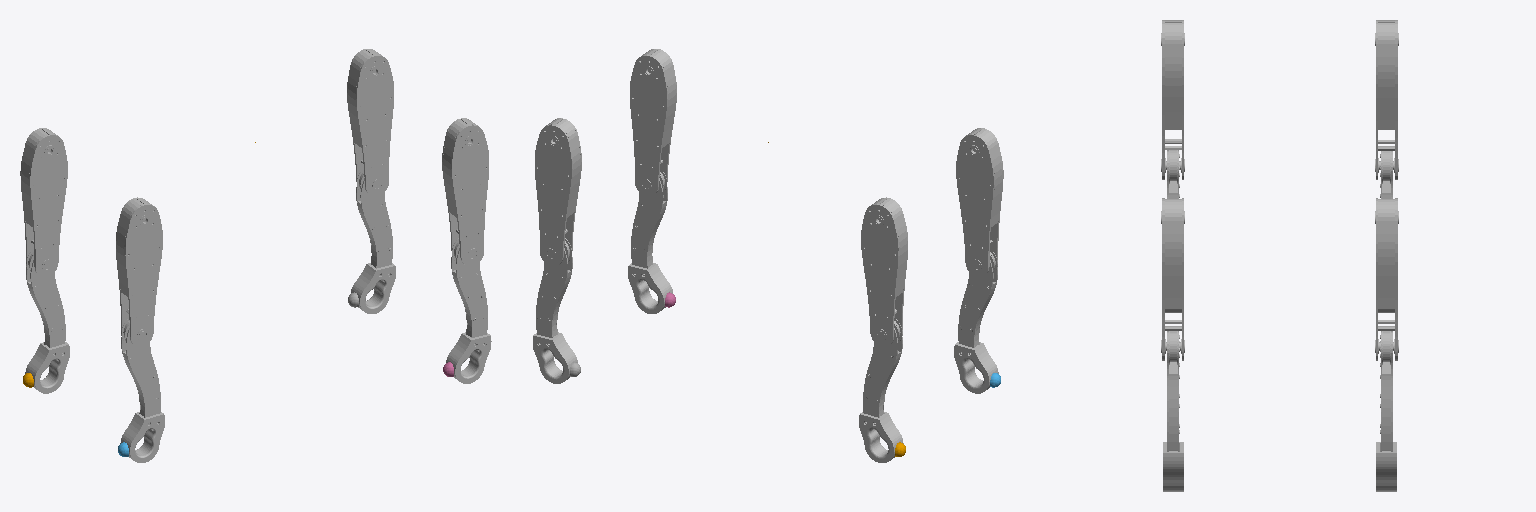
URDF robot description (svan_urdf_package):
<?xml version="1.0" encoding="utf-8"?>
<!-- This URDF was automatically created by SolidWorks to URDF Exporter! Originally created by [author] ([email redacted]) 
     Commit Version: 1.6.0-4-g7f85cfe  Build Version: 1.6.7995.38578
     For more information, please see http://wiki.ros.org/sw_urdf_exporter -->
<robot
  name="svan_urdf_package">
  <link name="base">
    <visual>
      <origin rpy="0 0 0" xyz="0 0 0"/>
      <geometry>
        <box size="0.001 0.001 0.001"/>
      </geometry>
    </visual>
  </link>
  <joint name="floating_base" type="fixed">
    <origin rpy="0 0 0" xyz="0 0 0"/>
    <parent link="base"/>
    <child link="base_link"/>
  </joint>
  <link name="base_link">
    <inertial>
      <origin
        xyz="-0.000736126189085237 -1.72251877519347E-05 9.8768329506848E-05"
        rpy="0 0 0" />
      <mass
        value="4.713" />
      <inertia ixx="0.01683993" ixy="8.3902e-05" ixz="0.000597679" iyy="0.056579028" iyz="2.5134e-05" izz="0.064713601"/>
    </inertial>
    <visual>
      <origin
        xyz="0 0 0"
        rpy="0 0 0" />
      <geometry>
        <mesh
          filename="../meshes/torso_link.STL" />
      </geometry>
      <material
        name="">
        <color
          rgba="0.752941176470588 0.752941176470588 0.752941176470588 1" />
      </material>
    </visual>
    <collision>
      <origin
        xyz="0 0 0"
        rpy="0 0 0" />
      <geometry>
        <mesh
          filename="../meshes/torso_link.STL" />
      </geometry>
    </collision>
  </link>
  <link name="fr_abd_l">
    <inertial>
      <origin
        xyz="0.0431354666865266 -0.0619037967425595 -1.28783333823018E-05"
        rpy="0 0 0" />
      <mass value="0.696"/>
      <inertia ixx="0.000469246" ixy="9.409e-06" ixz="-3.42e-07" iyy="0.00080749" iyz="4.66e-07" izz="0.000552929"/>
    </inertial>
    <visual>
      <origin
        xyz="0 0 0"
        rpy="0 0 0" />
      <geometry>
        <mesh
          filename="../meshes/fr_abd_l.STL" />
      </geometry>
      <material
        name="">
        <color
          rgba="0.752941176470588 0.752941176470588 0.752941176470588 1" />
      </material>
    </visual>
    <collision>
      <origin
        xyz="0 0 0"
        rpy="0 0 0" />
      <geometry>
        <mesh
          filename="../meshes/fr_abd_l.STL" />
      </geometry>
    </collision>
  </link>
  <joint name="fr_abd_j" type="revolute">
    <origin
      xyz="0.20368 -0.06 0"
      rpy="0 0 0" />
    <parent
      link="base_link" />
    <child
      link="fr_abd_l" />
    <axis
      xyz="1 0 0" />
    <limit
      lower="-3"
      upper="3"
      effort="100"
      velocity="100" />
  </joint>
  <link name="fr_hip_l">
    <inertial>
      <origin
        xyz="0.00165916788705489 0.00999999412640479 -0.0713157899491978"
        rpy="0 0 0" />
      <mass value="1.013"/>
      <inertia ixx="0.005529065" ixy="-4.825e-06" ixz="0.000343869" iyy="0.005139339" iyz="-2.2448e-05" izz="0.001367788"/>
    </inertial>
    <visual>
      <origin
        xyz="0 0 0"
        rpy="0 0 0" />
      <geometry>
        <mesh
          filename="../meshes/fr_hip_l.STL" />
      </geometry>
      <material
        name="">
        <color
          rgba="0.752941176470588 0.752941176470588 0.752941176470588 1" />
      </material>
    </visual>
    <collision>
      <origin
        xyz="0 0 0"
        rpy="0 0 0" />
      <geometry>
        <mesh
          filename="../meshes/fr_hip_l.STL" />
      </geometry>
    </collision>
  </link>
  <joint name="fr_hip_j" type="revolute">
    <origin
      xyz="0.043 -0.07525 0"
      rpy="0 0 0" />
    <parent
      link="fr_abd_l" />
    <child
      link="fr_hip_l" />
    <axis
      xyz="0 1 0" />
    <limit
      lower="-3"
      upper="3"
      effort="100"
      velocity="100" />
  </joint>
  <link name="fr_knee_l">
    <inertial>
      <origin
        xyz="0.00288556341815482 1.5445513158463E-06 -0.0756253134355262"
        rpy="0 0 0" />
      <mass value="0.166"/>
      <inertia ixx="0.002997972" ixy="0.0" ixz="-0.000141163" iyy="0.003014022" iyz="0.0" izz="3.2426e-05"/>
    </inertial>
    <visual>
      <origin
        xyz="0 0 0"
        rpy="0 0 0" />
      <geometry>
        <mesh
          filename="../meshes/fr_knee_l.STL" />
      </geometry>
      <material
        name="">
        <color
          rgba="0.752941176470588 0.752941176470588 0.752941176470588 1" />
      </material>
    </visual>
    <collision>
      <origin
        xyz="0 0 0"
        rpy="0 0 0" />
      <geometry>
        <mesh
          filename="../meshes/fr_knee_l.STL" />
      </geometry>
    </collision>
  </link>
  <joint name="fr_knee_j" type="revolute">
    <origin
      xyz="0.0041389 0.01 -0.16494"
      rpy="0 0 0" />
    <parent
      link="fr_hip_l" />
    <child
      link="fr_knee_l" />
    <axis
      xyz="0 1 0" />
    <limit
      lower="-3"
      upper="3"
      effort="100"
      velocity="100" />
  </joint>
  <joint name="fr_dummy_j" type="fixed" >
    <origin
      xyz="-0.026457 0 -0.16693"
      rpy="0 0 0" />
    <parent
      link="fr_knee_l" />
    <child
      link="foot_FR" />
  </joint>
  <link name="fl_abd_l">
    <inertial>
      <origin
        xyz="0.0431354666865253 0.0619037967425567 1.28783333771046E-05"
        rpy="0 0 0" />
      <mass value="0.696"/>
      <inertia ixx="0.000469246" ixy="-9.409e-06" ixz="-3.42e-07" iyy="0.00080749" iyz="-4.66e-07" izz="0.000552929"/>
    </inertial>
    <visual>
      <origin
        xyz="0 0 0"
        rpy="0 0 0" />
      <geometry>
        <mesh
          filename="../meshes/fl_abd_l.STL" />
      </geometry>
      <material
        name="">
        <color
          rgba="0.752941176470588 0.752941176470588 0.752941176470588 1" />
      </material>
    </visual>
    <collision>
      <origin
        xyz="0 0 0"
        rpy="0 0 0" />
      <geometry>
        <mesh
          filename="../meshes/fl_abd_l.STL" />
      </geometry>
    </collision>
  </link>
  <joint name="fl_abd_j" type="revolute">
    <origin
      xyz="0.20368 0.06 0"
      rpy="0 0 0" />
    <parent
      link="base_link" />
    <child
      link="fl_abd_l" />
    <axis
      xyz="1 0 0" />
    <limit
      lower="-3"
      upper="3"
      effort="100"
      velocity="100" />
  </joint>
  <link name="fl_hip_l">
    <inertial>
      <origin
        xyz="0.0016591678870552 -0.0100000058735955 -0.0713157899491955"
        rpy="0 0 0" />
     <mass value="1.013"/>
      <inertia ixx="0.005529065" ixy="4.825e-06" ixz="0.000343869" iyy="0.005139339" iyz="2.2448e-05" izz="0.001367788"/>
    </inertial>
    <visual>
      <origin
        xyz="0 0 0"
        rpy="0 0 0" />
      <geometry>
        <mesh
          filename="../meshes/fl_hip_l.STL" />
      </geometry>
      <material
        name="">
        <color
          rgba="0.752941176470588 0.752941176470588 0.752941176470588 1" />
      </material>
    </visual>
    <collision>
      <origin
        xyz="0 0 0"
        rpy="0 0 0" />
      <geometry>
        <mesh
          filename="../meshes/fl_hip_l.STL" />
      </geometry>
    </collision>
  </link>
  <joint name="fl_hip_j" type="revolute">
    <origin
      xyz="0.043 0.07525 0"
      rpy="0 0 0" />
    <parent
      link="fl_abd_l" />
    <child
      link="fl_hip_l" />
    <axis
      xyz="0 1 0" />
    <limit
      lower="-3"
      upper="3"
      effort="100"
      velocity="100" />
  </joint>
  <link name="fl_knee_a">
    <inertial>
      <origin
        xyz="0.00288556341815421 1.54455131551323E-06 -0.0756253134355257"
        rpy="0 0 0" />
      <mass value="0.166"/>
      <inertia ixx="0.002997972" ixy="0.0" ixz="-0.000141163" iyy="0.003014022" iyz="0.0" izz="3.2426e-05"/>
    </inertial>
    <visual>
      <origin
        xyz="0 0 0"
        rpy="0 0 0" />
      <geometry>
        <mesh
          filename="../meshes/fl_knee_a.STL" />
      </geometry>
      <material
        name="">
        <color
          rgba="0.752941176470588 0.752941176470588 0.752941176470588 1" />
      </material>
    </visual>
    <collision>
      <origin
        xyz="0 0 0"
        rpy="0 0 0" />
      <geometry>
        <mesh
          filename="../meshes/fl_knee_a.STL" />
      </geometry>
    </collision>
  </link>
  <joint name="fl_knee_j" type="revolute">
    <origin
      xyz="0.0041389 -0.01 -0.16494"
      rpy="0 0 0" />
    <parent
      link="fl_hip_l" />
    <child
      link="fl_knee_a" />
    <axis
      xyz="0 1 0" />
    <limit
      lower="-3"
      upper="3"
      effort="100"
      velocity="100" />
  </joint>
  <joint name="fl_dummy_j" type="fixed" >
    <origin
      xyz="-0.026618 0 -0.16693"
      rpy="0 0 0" />
    <parent
      link="fl_knee_a" />
    <child
      link="foot_FL" />
  </joint>
  <link name="rr_abd_l">
    <inertial>
      <origin
        xyz="-0.0408339071979818 -0.0619037967425603 0.000179250427446827"
        rpy="0 0 0" />
      <mass value="0.696"/>
      <inertia ixx="0.000469246" ixy="-9.409e-06" ixz="3.42e-07" iyy="0.00080749" iyz="4.66e-07" izz="0.000552929"/>
    </inertial>
    <visual>
      <origin
        xyz="0 0 0"
        rpy="0 0 0" />
      <geometry>
        <mesh
          filename="../meshes/rr_abd_l.STL" />
      </geometry>
      <material
        name="">
        <color
          rgba="0.752941176470588 0.752941176470588 0.752941176470588 1" />
      </material>
    </visual>
    <collision>
      <origin
        xyz="0 0 0"
        rpy="0 0 0" />
      <geometry>
        <mesh
          filename="../meshes/rr_abd_l.STL" />
      </geometry>
    </collision>
  </link>
  <joint name="rr_abd_j" type="revolute">
    <origin
      xyz="-0.20482 -0.06 0"
      rpy="0 0 0" />
    <parent
      link="base_link" />
    <child
      link="rr_abd_l" />
    <axis
      xyz="1 0 0" />
    <limit
      lower="-3"
      upper="3"
      effort="100"
      velocity="100" />
  </joint>
  <link name="rr_hip_l">
    <inertial>
      <origin
        xyz="-0.00165916788705478 0.0100000058735978 -0.0713157899491982"
        rpy="0 0 0" />
      <mass value="1.013"/>
      <inertia ixx="0.005529065" ixy="-4.825e-06" ixz="0.000343869" iyy="0.005139339" iyz="-2.2448e-05" izz="0.001367788"/>
    </inertial>
    <visual>
      <origin
        xyz="0 0 0"
        rpy="0 0 0" />
      <geometry>
        <mesh
          filename="../meshes/rr_hip_l.STL" />
      </geometry>
      <material
        name="">
        <color
          rgba="0.752941176470588 0.752941176470588 0.752941176470588 1" />
      </material>
    </visual>
    <collision>
      <origin
        xyz="0 0 0"
        rpy="0 0 0" />
      <geometry>
        <mesh
          filename="../meshes/rr_hip_l.STL" />
      </geometry>
    </collision>
  </link>
  <joint name="rr_hip_j" type="revolute">
    <origin
      xyz="-0.043 -0.07525 0"
      rpy="0 0 0" />
    <parent
      link="rr_abd_l" />
    <child
      link="rr_hip_l" />
    <axis
      xyz="0 1 0" />
    <limit
      lower="-3"
      upper="3"
      effort="100"
      velocity="100" />
  </joint>
  <link name="rr_knee_l">
    <inertial>
      <origin
        xyz="0.00654595759568111 1.5446183047052E-06 -0.0753966327483542"
        rpy="0 0 0" />
      <mass value="0.166"/>
      <inertia ixx="0.002997972" ixy="0.0" ixz="-0.000141163" iyy="0.003014022" iyz="0.0" izz="3.2426e-05"/>
    </inertial>
    <visual>
      <origin
        xyz="0 0 0"
        rpy="0 0 0" />
      <geometry>
        <mesh
          filename="../meshes/rr_knee_l.STL" />
      </geometry>
      <material
        name="">
        <color
          rgba="0.752941176470588 0.752941176470588 0.752941176470588 1" />
      </material>
    </visual>
    <collision>
      <origin
        xyz="0 0 0"
        rpy="0 0 0" />
      <geometry>
        <mesh
          filename="../meshes/rr_knee_l.STL" />
      </geometry>
    </collision>
  </link>
  <joint name="rr_knee_j" type="revolute">
    <origin
      xyz="-0.0038618 0.01 -0.16493"
      rpy="0 0 0" />
    <parent
      link="rr_hip_l" />
    <child
      link="rr_knee_l" />
    <axis
      xyz="0 1 0" />
    <limit
      lower="-3"
      upper="3"
      effort="100"
      velocity="100" />
  </joint>
  <!-- <link
    name="rr_dummy_l">
    <inertial>
      <origin
        xyz="0.00149798440726828 3.10862446895044E-15 7.7734905568394E-05"
        rpy="0 0 0" />
      <mass
        value="9.42477796076944E-06" />
      <inertia
        ixx="4.72504481421764E-12"
        ixy="-1.40725882958467E-27"
        ixz="-2.43883254369301E-13"
        iyy="9.42477796076952E-12"
        iyz="-7.74661408927972E-29"
        izz="9.41212212693661E-12" />
    </inertial>
    <visual>
      <origin
        xyz="0 0 0"
        rpy="0 0 0" />
      <geometry>
        <mesh
          filename="../meshes/rr_dummy_l.STL" />
      </geometry>
      <material
        name="">
        <color
          rgba="0.792156862745098 0.819607843137255 0.933333333333333 1" />
      </material>
    </visual>
    <collision>
      <origin
        xyz="0 0 0"
        rpy="0 0 0" />
      <geometry>
        <mesh
          filename="../meshes/rr_dummy_l.STL" />
      </geometry>
    </collision>
  </link> -->
  <joint name="rr_dummy_j" type="fixed" >
    <origin
      xyz="-0.018339 0 -0.16802"
      rpy="0 0 0" />
    <parent
      link="rr_knee_l" />
    <child
      link="foot_RR" />
  </joint>
  <link name="rl_abd_l">
    <inertial>
      <origin
        xyz="-0.0408339071979842 0.0619037967425569 -0.000179250427450348"
        rpy="0 0 0" />
      <mass value="0.696"/>
      <inertia ixx="0.000469246" ixy="9.409e-06" ixz="3.42e-07" iyy="0.00080749" iyz="-4.66e-07" izz="0.000552929"/>
    </inertial>
    <visual>
      <origin
        xyz="0 0 0"
        rpy="0 0 0" />
      <geometry>
        <mesh
          filename="../meshes/rl_abd_l.STL" />
      </geometry>
      <material
        name="">
        <color
          rgba="0.752941176470588 0.752941176470588 0.752941176470588 1" />
      </material>
    </visual>
    <collision>
      <origin
        xyz="0 0 0"
        rpy="0 0 0" />
      <geometry>
        <mesh
          filename="../meshes/rl_abd_l.STL" />
      </geometry>
    </collision>
  </link>
  <joint name="rl_abd_j" type="revolute">
    <origin
      xyz="-0.20482 0.06 0"
      rpy="0 0 0" />
    <parent
      link="base_link" />
    <child
      link="rl_abd_l" />
    <axis
      xyz="1 0 0" />
    <limit
      lower="-3"
      upper="3"
      effort="100"
      velocity="100" />
  </joint>
  <link name="rl_hip_l">
    <inertial>
      <origin
        xyz="-0.00179950691259256 -0.0100000058735954 -0.0713123896470731"
        rpy="0 0 0" />
      <mass value="1.013"/>
      <inertia ixx="0.005529065" ixy="4.825e-06" ixz="0.000343869" iyy="0.005139339" iyz="2.2448e-05" izz="0.001367788"/>
    </inertial>
    <visual>
      <origin
        xyz="0 0 0"
        rpy="0 0 0" />
      <geometry>
        <mesh
          filename="../meshes/rl_hip_l.STL" />
      </geometry>
      <material
        name="">
        <color
          rgba="0.752941176470588 0.752941176470588 0.752941176470588 1" />
      </material>
    </visual>
    <collision>
      <origin
        xyz="0 0 0"
        rpy="0 0 0" />
      <geometry>
        <mesh
          filename="../meshes/rl_hip_l.STL" />
      </geometry>
    </collision>
  </link>
  <joint name="rl_hip_j" type="revolute">
    <origin
      xyz="-0.043 0.07525 0"
      rpy="0 0 0" />
    <parent
      link="rl_abd_l" />
    <child
      link="rl_hip_l" />
    <axis
      xyz="0 1 0" />
    <limit
      lower="-3"
      upper="3"
      effort="100"
      velocity="100" />
  </joint>
  <link name="rl_knee_l">
    <inertial>
      <origin
        xyz="0.00654594639576345 1.54461741741496E-06 -0.0753966803284335"
        rpy="0 0 0" />
      <mass value="0.166"/>
      <inertia ixx="0.002997972" ixy="0.0" ixz="-0.000141163" iyy="0.003014022" iyz="0.0" izz="3.2426e-05"/>
    </inertial>
    <visual>
      <origin
        xyz="0 0 0"
        rpy="0 0 0" />
      <geometry>
        <mesh
          filename="../meshes/rl_knee_l.STL" />
      </geometry>
      <material
        name="">
        <color
          rgba="0.752941176470588 0.752941176470588 0.752941176470588 1" />
      </material>
    </visual>
    <collision>
      <origin
        xyz="0 0 0"
        rpy="0 0 0" />
      <geometry>
        <mesh
          filename="../meshes/rl_knee_l.STL" />
      </geometry>
    </collision>
  </link>
  <joint name="rl_knee_j" type="revolute">
    <origin
      xyz="-0.0038618 -0.01 -0.16493"
      rpy="0 0 0" />
    <parent
      link="rl_hip_l" />
    <child
      link="rl_knee_l" />
    <axis
      xyz="0 1 0" />
    <limit
      lower="-3"
      upper="3"
      effort="100"
      velocity="100" />
  </joint>
  <!-- <link
    name="rl_dummy_l">
    <inertial>
      <origin
        xyz="0.0014979844072685 1.99840144432528E-15 7.77349055681165E-05"
        rpy="0 0 0" />
      <mass
        value="9.42477796076945E-06" />
      <inertia
        ixx="4.72504481421764E-12"
        ixy="-2.75052131823419E-27"
        ixz="-2.43883254369304E-13"
        iyy="9.42477796076952E-12"
        iyz="2.68212707776922E-29"
        izz="9.41212212693661E-12" />
    </inertial>
    <visual>
      <origin
        xyz="0 0 0"
        rpy="0 0 0" />
      <geometry>
        <mesh
          filename="../meshes/rl_dummy_l.STL" />
      </geometry>
      <material
        name="">
        <color
          rgba="0.792156862745098 0.819607843137255 0.933333333333333 1" />
      </material>
    </visual>
    <collision>
      <origin
        xyz="0 0 0"
        rpy="0 0 0" />
      <geometry>
        <mesh
          filename="../meshes/rl_dummy_l.STL" />
      </geometry>
    </collision>
  </link> -->
  <link name="foot_FR">
    <inertial>
        <origin xyz="0.0014979844072685 1.99840144432528E-15 7.77349055681165E-05"
        rpy="0 0 0" /> 
        <mass value="0.025" />
        <inertia ixx="2e-6" ixy="0" ixz="0" iyy="2e-6" iyz="0" izz="2e-6" />
      </inertial>
      <visual>
        <origin xyz="0 0 0" rpy="0 0 0" />
        <geometry>
          <sphere radius="0.01" />
        </geometry>
      </visual>
      <collision>
        <origin xyz="0 0 0" rpy="0 0 0" />
        <geometry>
          <sphere radius="0.01" />
        </geometry>
      </collision>
  </link>
  <link name="foot_FL">
    <inertial>
        <origin xyz="0.0014979844072685 1.99840144432528E-15 7.77349055681165E-05"
        rpy="0 0 0" /> 
        <mass value="0.025" />
        <inertia ixx="2e-6" ixy="0" ixz="0" iyy="2e-6" iyz="0" izz="2e-6" />
      </inertial>
      <visual>
        <origin xyz="0 0 0" rpy="0 0 0" />
        <geometry>
          <sphere radius="0.01" />
        </geometry>
      </visual>
      <collision>
        <origin xyz="0 0 0" rpy="0 0 0" />
        <geometry>
          <sphere radius="0.01" />
        </geometry>
      </collision>
  </link>
  <link name="foot_RL">
    <inertial>
        <origin xyz="0.0014979844072685 1.99840144432528E-15 7.77349055681165E-05"
        rpy="0 0 0" /> 
        <mass value="0.025" />
        <inertia ixx="2e-6" ixy="0" ixz="0" iyy="2e-6" iyz="0" izz="2e-6" />
      </inertial>
      <visual>
        <origin xyz="0 0 0" rpy="0 0 0" />
        <geometry>
          <sphere radius="0.01" />
        </geometry>
      </visual>
      <collision>
        <origin xyz="0 0 0" rpy="0 0 0" />
        <geometry>
          <sphere radius="0.01" />
        </geometry>
      </collision>
  </link>
  <link name="foot_RR">
    <inertial>
        <origin xyz="0.0014979844072685 1.99840144432528E-15 7.77349055681165E-05"
        rpy="0 0 0" /> 
        <mass value="0.025" />
        <inertia ixx="2e-6" ixy="0" ixz="0" iyy="2e-6" iyz="0" izz="2e-6" />
      </inertial>
      <visual>
        <origin xyz="0 0 0" rpy="0 0 0" />
        <geometry>
          <sphere radius="0.01" />
        </geometry>
      </visual>
      <collision>
        <origin xyz="0 0 0" rpy="0 0 0" />
        <geometry>
          <sphere radius="0.01" />
        </geometry>
      </collision>
  </link>
  <joint name="rl_dummy_j" type="fixed" >
    <origin
      xyz="-0.0185 0 -0.16802"
      rpy="0 0 0" />
    <parent
      link="rl_knee_l" />
    <child
      link="foot_RL" />
  </joint>
</robot>

--- What the picture shows (computed from the rendered views, not written in the file) ---
Views: 3 orthographic renders of the robot side by side, from view 1: azimuth 30°, elevation 25°; view 2: azimuth 150°, elevation 25°; view 3: azimuth 270°, elevation 25°.
Robot: svan_urdf_package — 18 links, 17 joints (12 revolute, 5 fixed); root link base; default pose: all joints at 0.
Links seen in each view (by area): view 1: rl_hip_l, rr_hip_l, fl_hip_l, fr_hip_l, fl_knee_a, fr_knee_l, rr_knee_l, rl_knee_l; view 2: rr_hip_l, rl_hip_l, fr_hip_l, fl_hip_l, fr_knee_l, fl_knee_a, rl_knee_l, rr_knee_l; view 3: fr_hip_l, fl_hip_l, rr_hip_l, rl_hip_l, fr_knee_l, fl_knee_a, rr_knee_l, rl_knee_l.
Boxes of the visible links, x1=… form: rl_hip_l: x1=20, y1=128, x2=67, y2=276; rr_hip_l: x1=116, y1=197, x2=162, y2=346; fl_hip_l: x1=347, y1=49, x2=393, y2=196; fr_hip_l: x1=442, y1=118, x2=488, y2=265; fl_knee_a: x1=351, y1=169, x2=395, y2=313; fr_knee_l: x1=446, y1=238, x2=491, y2=383; rr_knee_l: x1=120, y1=319, x2=164, y2=462; rl_knee_l: x1=25, y1=249, x2=69, y2=393; rr_hip_l: x1=956, y1=128, x2=1003, y2=276; rl_hip_l: x1=861, y1=197, x2=907, y2=346; fr_hip_l: x1=630, y1=49, x2=676, y2=196; fl_hip_l: x1=535, y1=118, x2=581, y2=265; fr_knee_l: x1=628, y1=169, x2=672, y2=313; fl_knee_a: x1=533, y1=238, x2=577, y2=383; rl_knee_l: x1=859, y1=318, x2=903, y2=462; rr_knee_l: x1=954, y1=249, x2=998, y2=393; fr_hip_l: x1=1161, y1=198, x2=1184, y2=360; fl_hip_l: x1=1375, y1=198, x2=1398, y2=360; rr_hip_l: x1=1161, y1=20, x2=1184, y2=179; rl_hip_l: x1=1375, y1=20, x2=1398, y2=179; fr_knee_l: x1=1163, y1=331, x2=1183, y2=491; fl_knee_a: x1=1376, y1=331, x2=1396, y2=491; rr_knee_l: x1=1165, y1=150, x2=1181, y2=312; rl_knee_l: x1=1378, y1=151, x2=1394, y2=312.
Bounding box of the posed robot: 0.5597 × 0.2785 × 0.375 m (x, y, z).
8 mesh visuals loaded from 13 distinct referenced files (8 binary STL); not drawn: 5 (reference not matched to a file when rendering).
